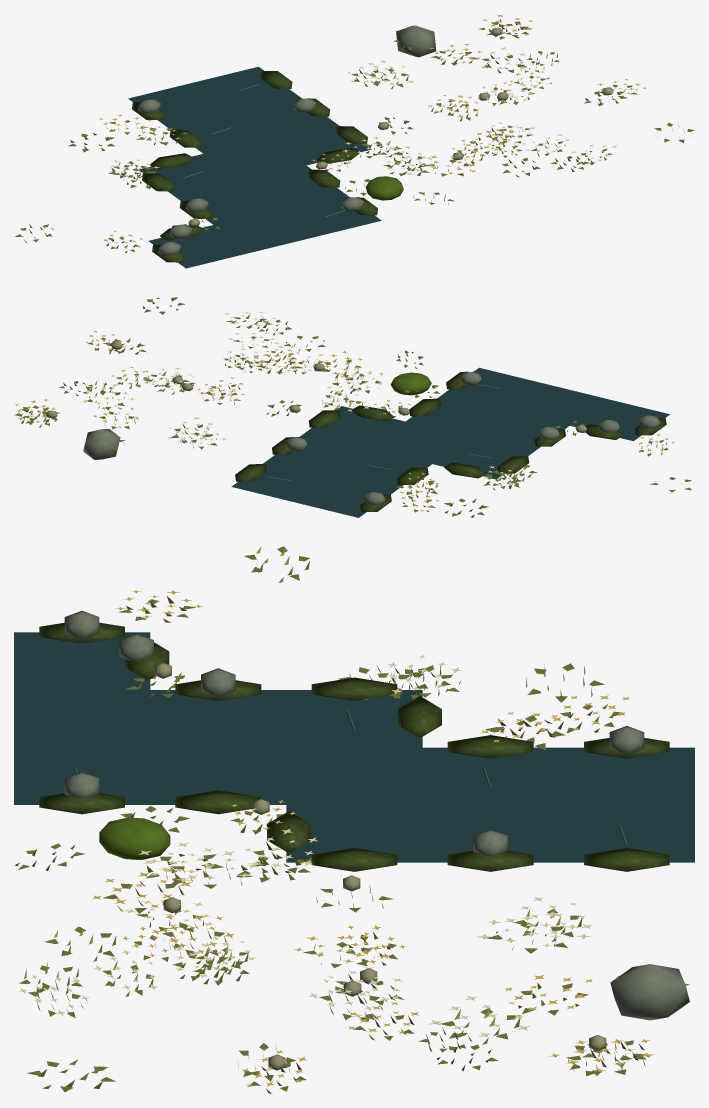
File: detail-patch-02-03.fbx
The picture shows the model from 3 angles, top to bottom: view 1: azimuth 30°, elevation 25°; view 2: azimuth 150°, elevation 25°; view 3: azimuth 270°, elevation 25°; orthographic projection. The views are drawn at different scales.
Visible parts, largest first — view 1: detail-patch-02-03__Water, detail-patch-02-03__Geometry; view 2: detail-patch-02-03__Water, detail-patch-02-03__Geometry; view 3: detail-patch-02-03__Water, detail-patch-02-03__Geometry.
Boxes of the visible parts, x1,y1,x2,y2 form: detail-patch-02-03__Water: (128, 66, 381, 268); detail-patch-02-03__Geometry: (15, 14, 694, 262); detail-patch-02-03__Water: (231, 367, 669, 517); detail-patch-02-03__Geometry: (14, 297, 691, 517); detail-patch-02-03__Water: (14, 632, 694, 862); detail-patch-02-03__Geometry: (15, 546, 689, 1093).
Size of the model in its own units: 9.54 by 0.4579 by 5.
2 materials, 1 textured.
